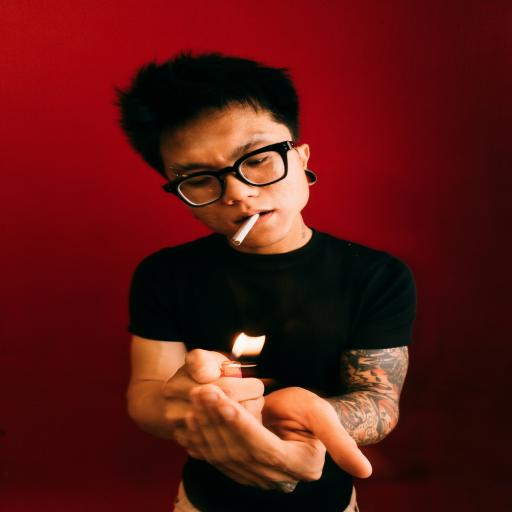lighter: (196, 328, 297, 430)
